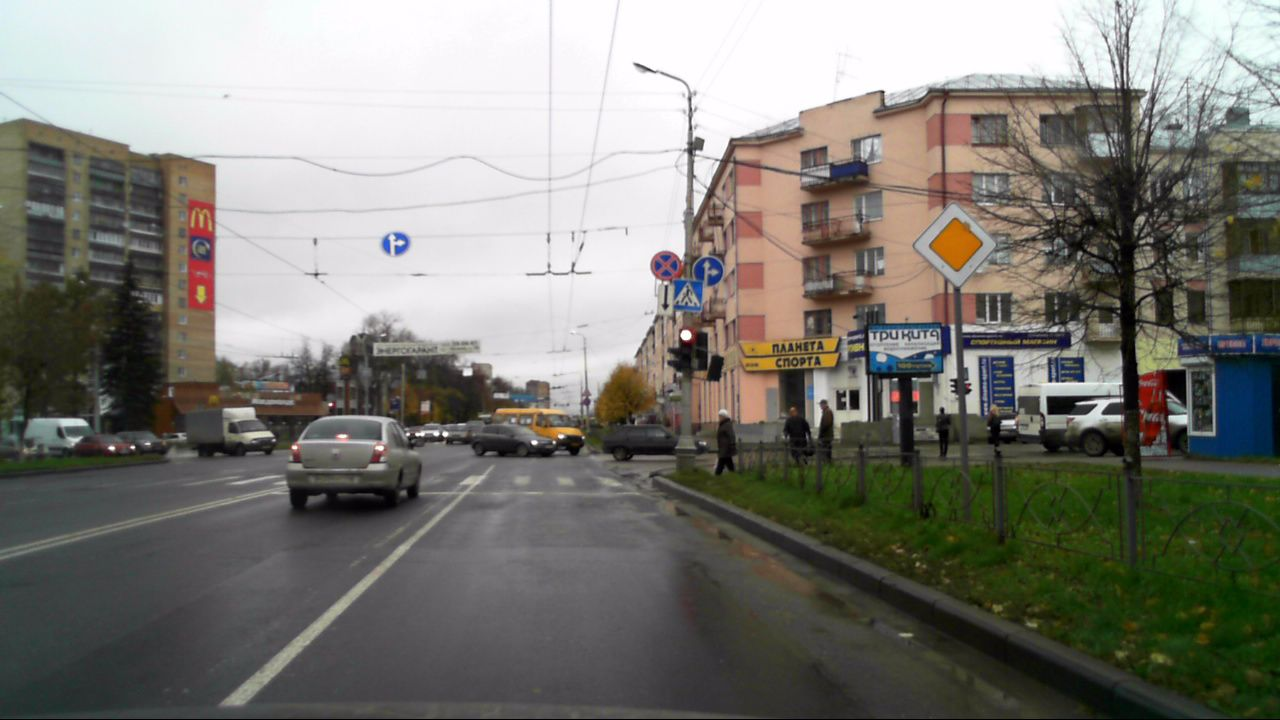No Parking: (649, 250, 682, 281)
